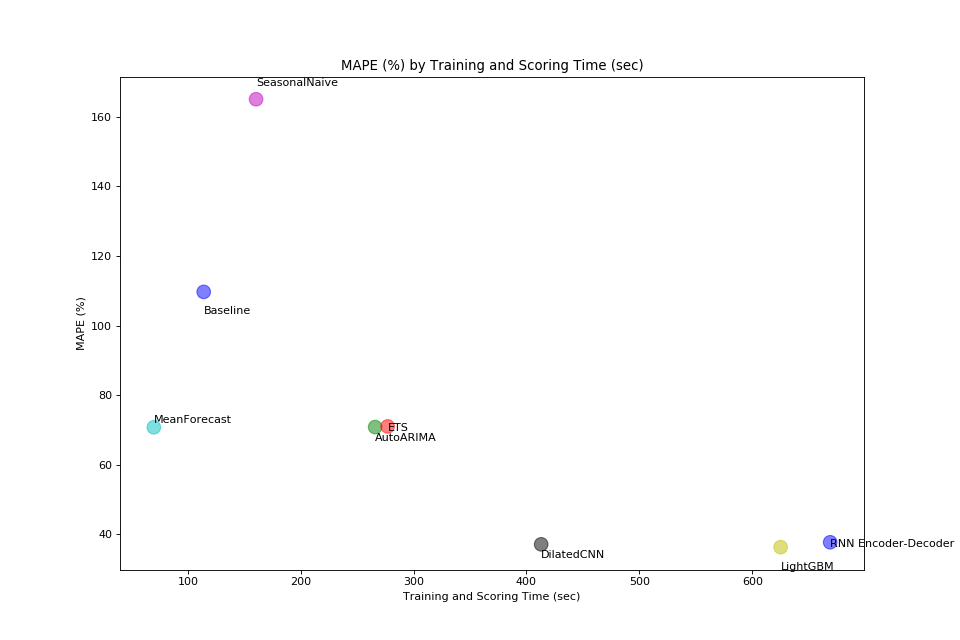

Layout of this report page (visuals, bound fields, positions):
{"tool":"powerbi","page":{"name":"Time - Retail","canvas":[1280,720],"ordinal":3},"visuals":[{"type":"scatterChart","fields":{"X":["Sum(Table1.Training and Scoring Time)"],"Y":["Sum(Table1.MAPE (%))"],"Series":["Table1.Submission Name"]},"box":[224.2,0,803.5,720.6],"z":1}]}

Visuals, with their boxes on the page's 1280x720 design canvas (x1, y1, x2, y2). These are canvas units, not pixel positions in the 960x640 screenshot, which may show the page scaled, cropped or inside an application window:
scatterChart - Sum(Table1.Training and Scoring Time) x Sum(Table1.MAPE (%)): 224, 0, 1028, 721
